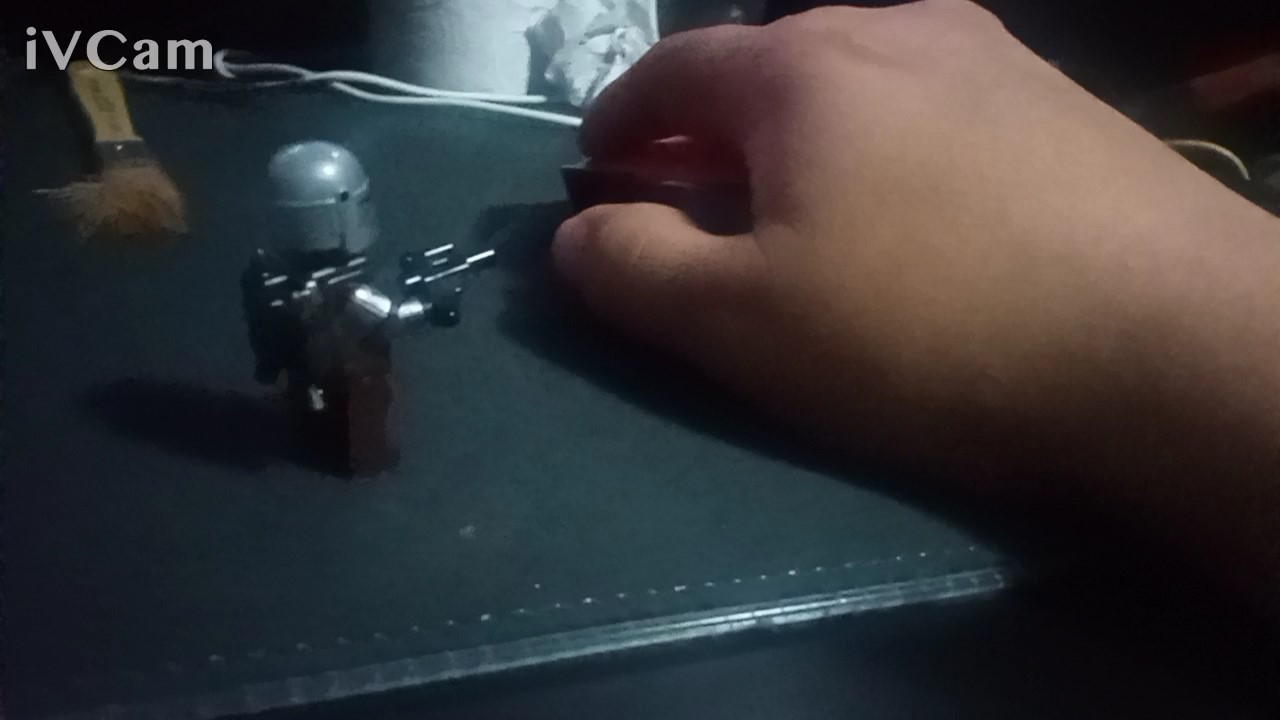mandalorian: (228, 128, 506, 505)
